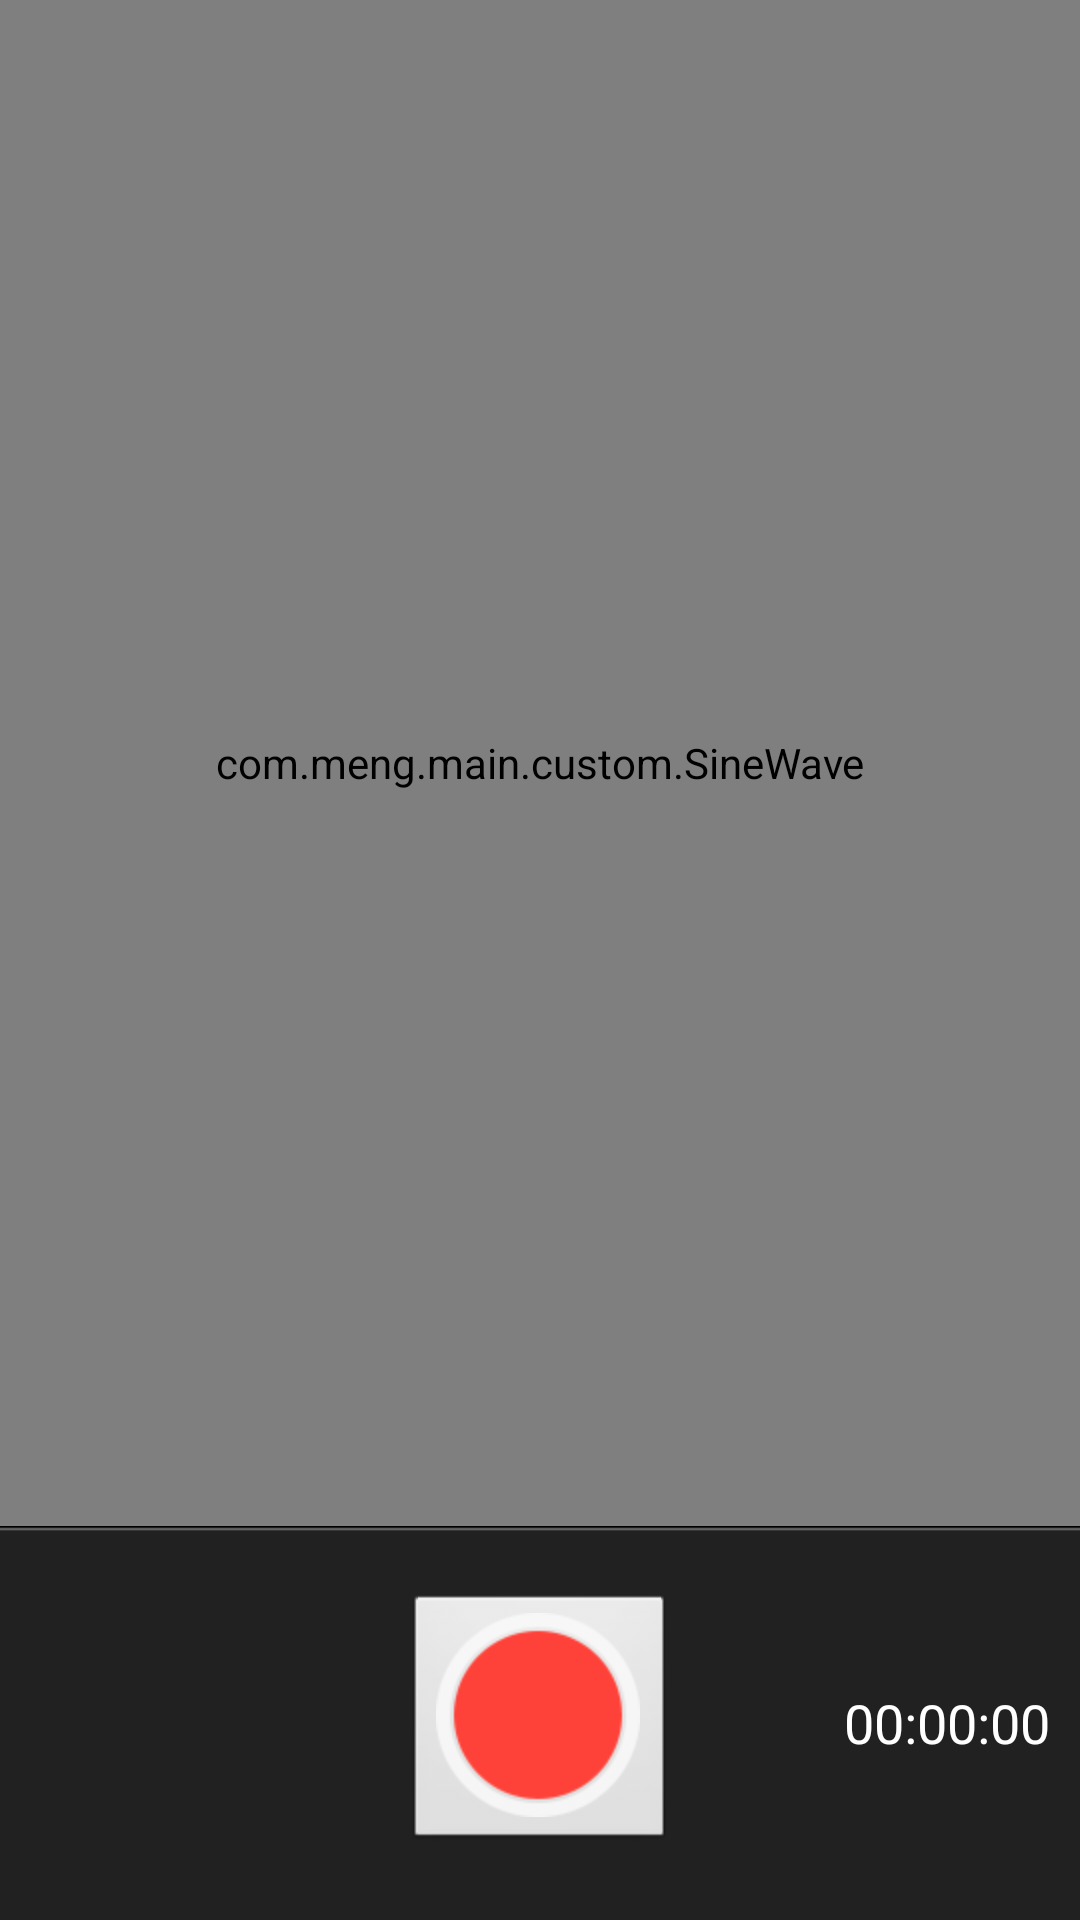

Screen size 1080px×1920px. Icon name, then its center in pixels as (x,y):
start: (539,1716)
